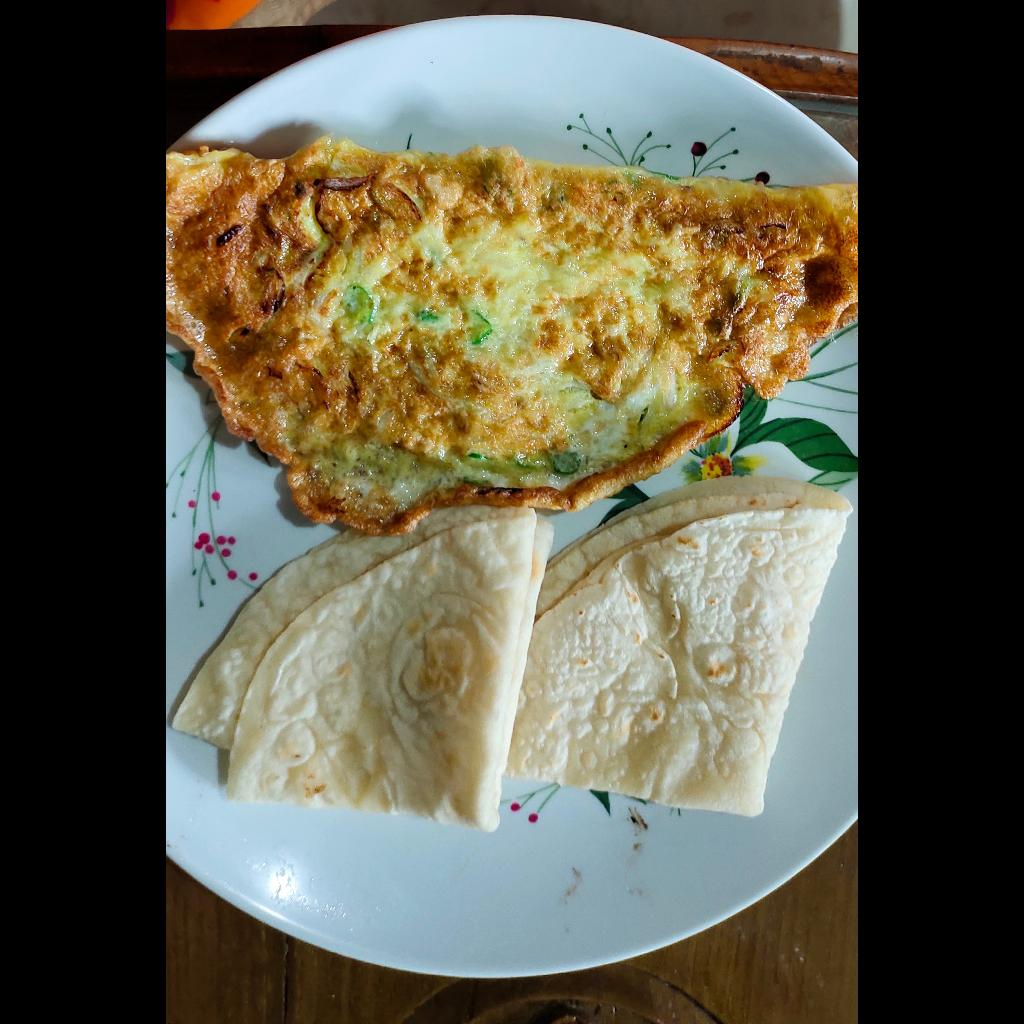egg-poached: (166, 132, 858, 536)
ruti: (167, 473, 854, 841)
